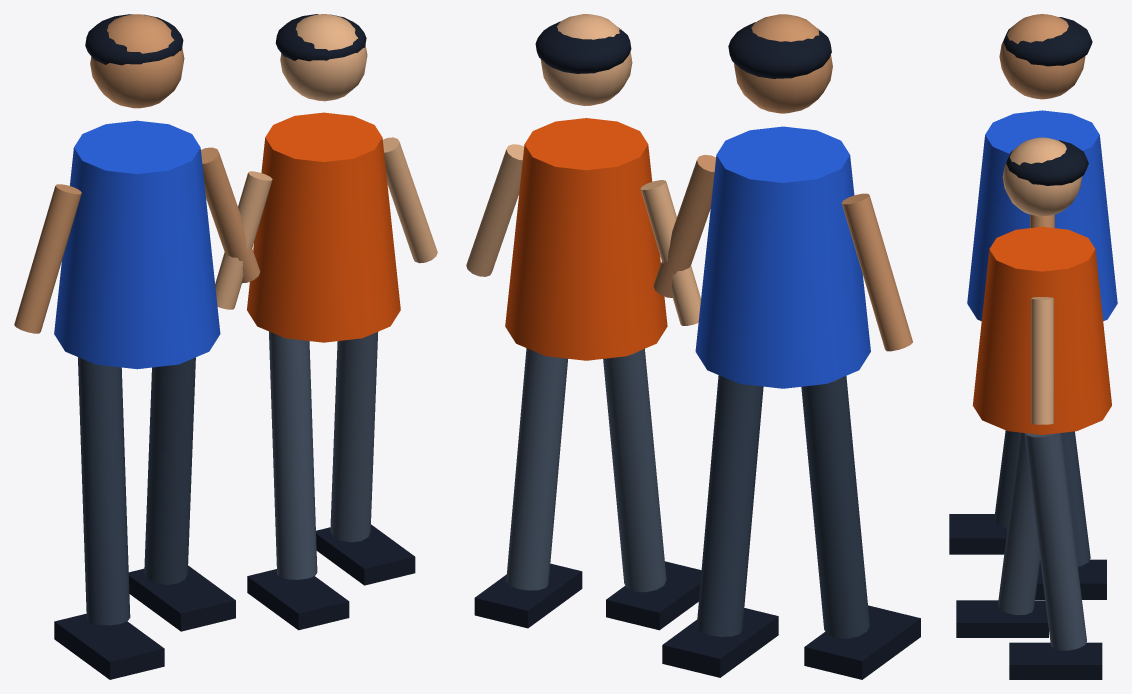
3 views of the same model, side by side, from view 1: azimuth 30°, elevation 25°; view 2: azimuth 150°, elevation 25°; view 3: azimuth 270°, elevation 25° (orthographic). The views are drawn at different scales.
Parts seen in each view (by area): view 1: people-pair; view 2: people-pair; view 3: people-pair.
Boxes of the visible parts, box(x1,y1,x2,y2) form: people-pair: box(14, 14, 437, 679); people-pair: box(466, 14, 920, 679); people-pair: box(949, 14, 1117, 679).
Size of the model in its own units: 1.26 by 1.73 by 0.4838.
